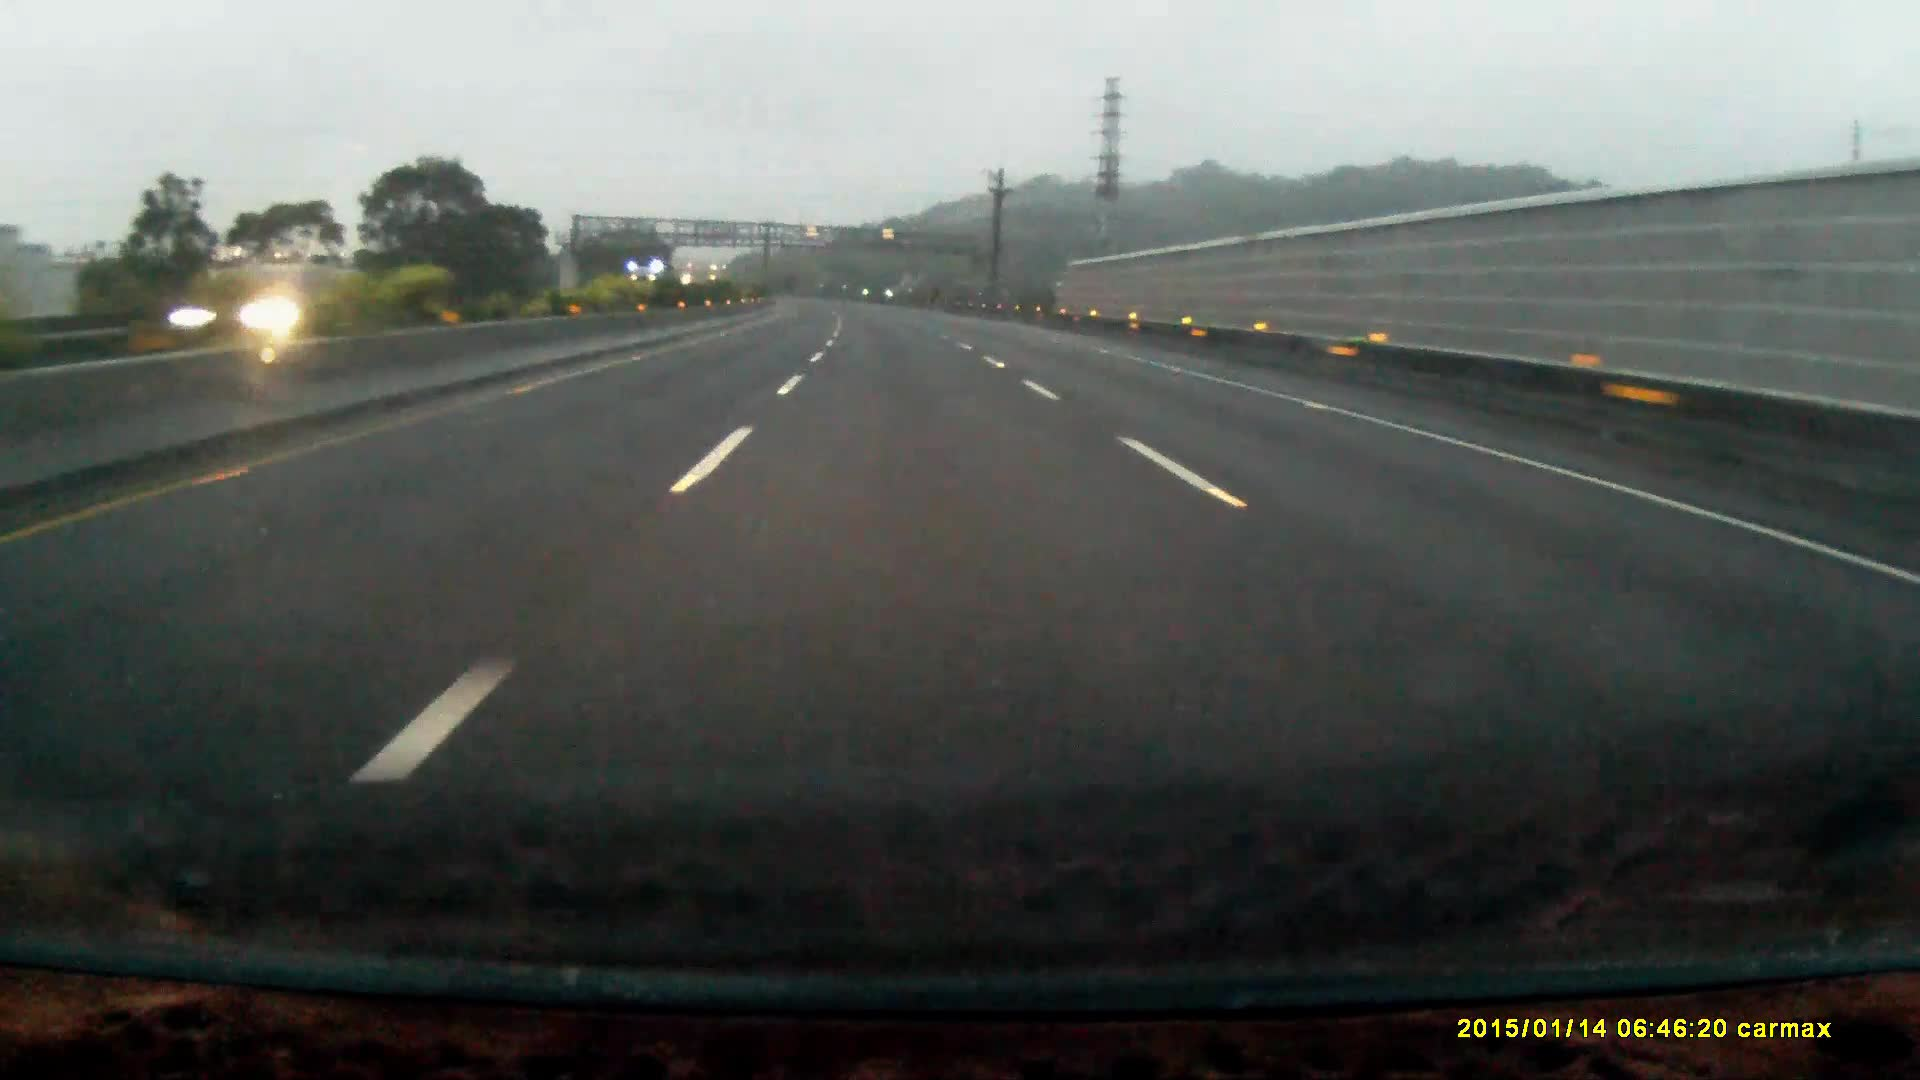vehicle: (630, 262, 676, 309)
